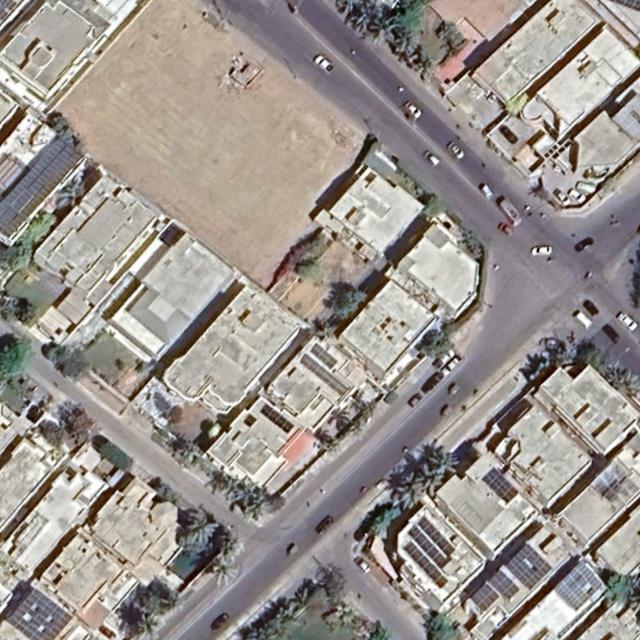solar panel: (0, 137, 84, 239), (6, 588, 73, 639), (555, 561, 602, 612), (506, 543, 553, 590), (403, 542, 449, 590), (300, 353, 347, 395), (408, 525, 448, 570), (417, 516, 457, 556), (483, 467, 520, 504), (261, 404, 295, 434), (489, 570, 520, 601), (471, 584, 500, 611), (311, 343, 338, 370)
